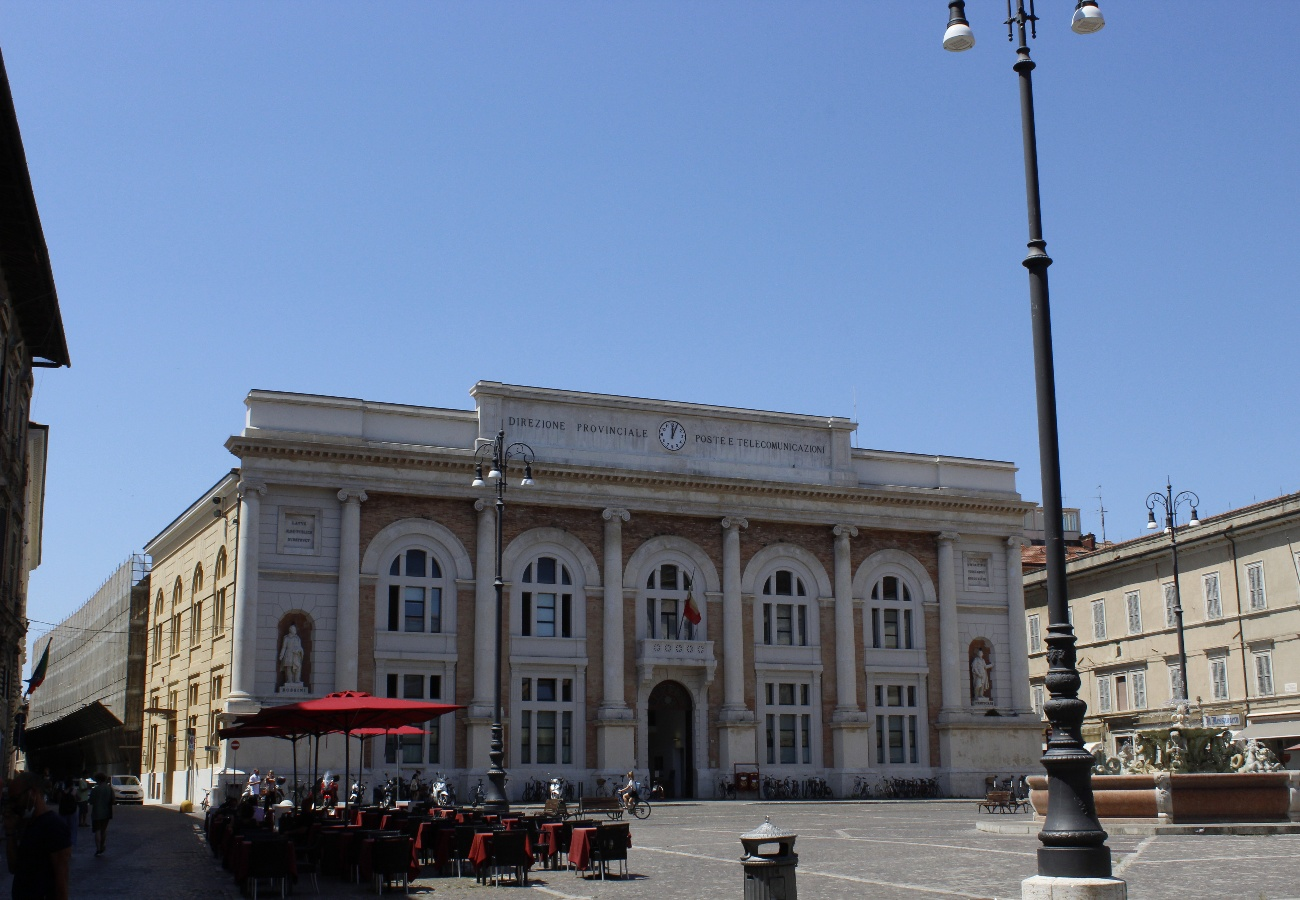Fontana Piazza del Popolo: (1138, 703, 1250, 776)
Palazzo delle Poste: (232, 387, 1036, 806)
